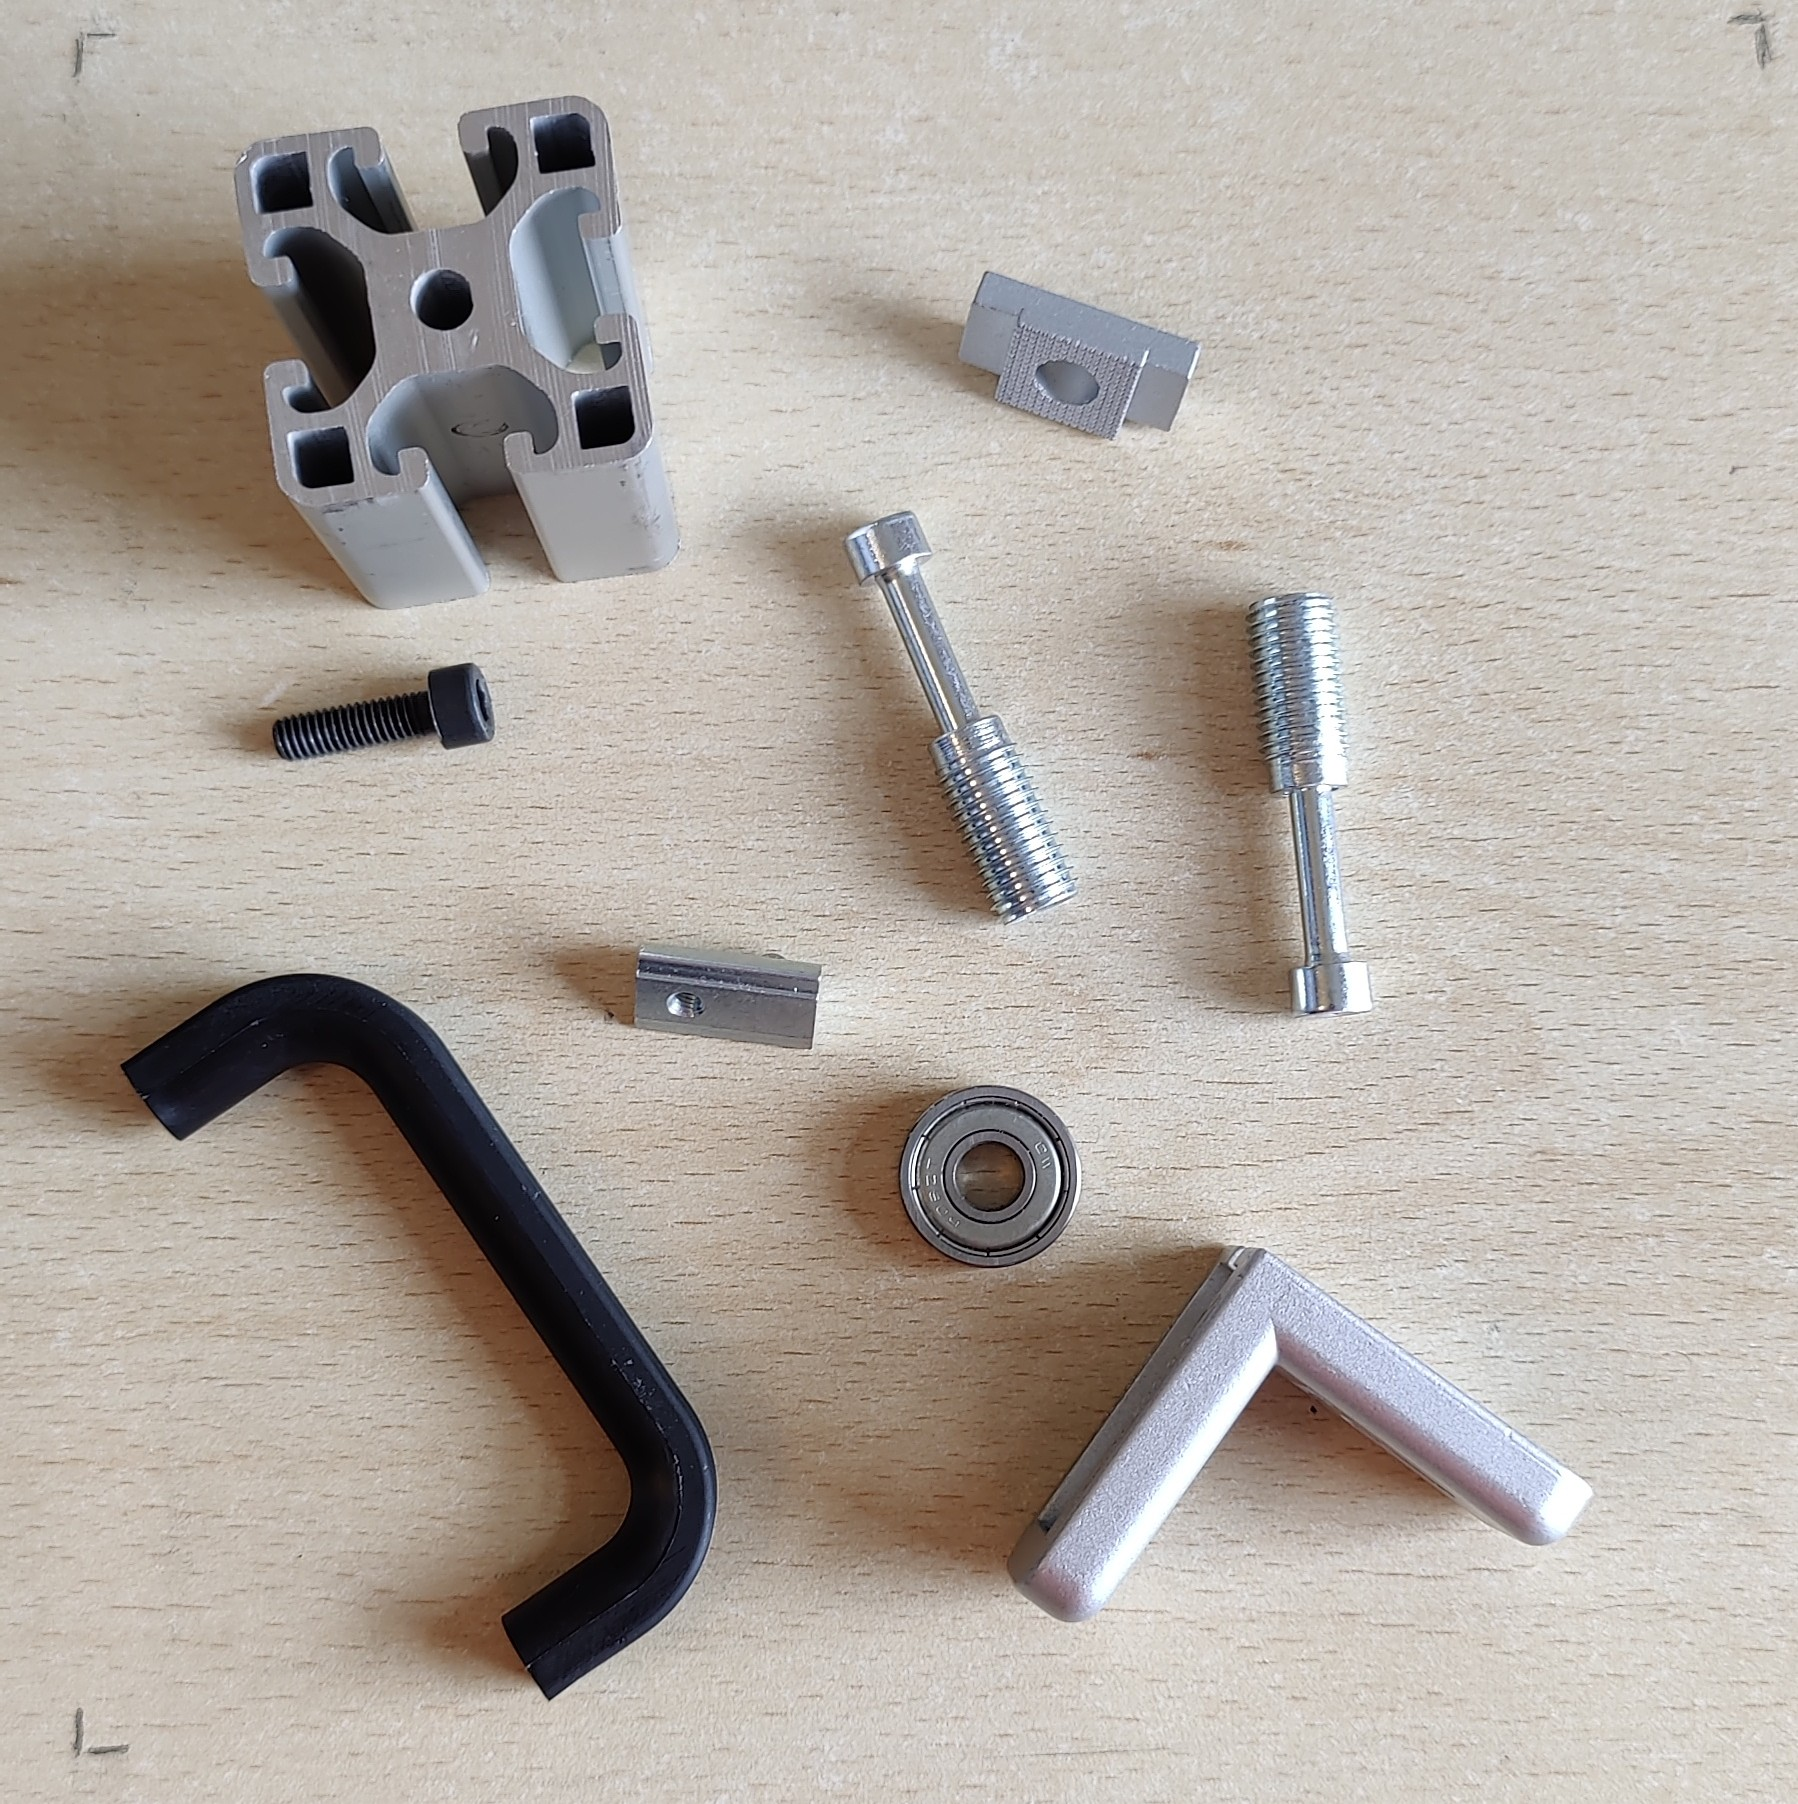Aluminium Extension: (229, 94, 682, 611)
Ball Bearing: (892, 1085, 1082, 1271)
Multiwinkel: (1004, 1238, 1599, 1626)
Pull Handle: (115, 973, 723, 1705)
Shoulder Socket Head Cap Screw: (841, 507, 1080, 928), (1245, 586, 1378, 1021)
Socket Head Cap Screw: (270, 660, 501, 767)
T Nut Square: (953, 270, 1205, 444)
T Spring Nut: (631, 937, 827, 1053)
